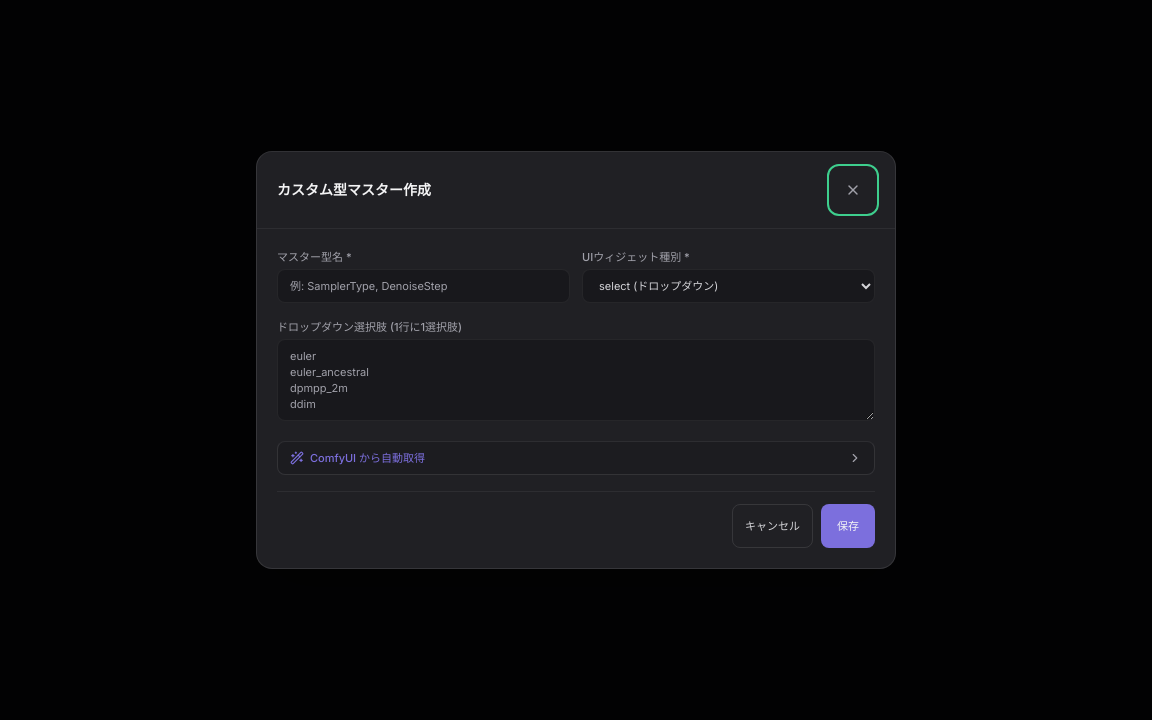
ParamTypeMasterModal › [REQ-365/AC-4] toggles the Auto-Fill section
Expected: the text "対象ワークフロー" is not shown
Click the button "ComfyUI から自動取得": (368,458) [278,442,874,474]
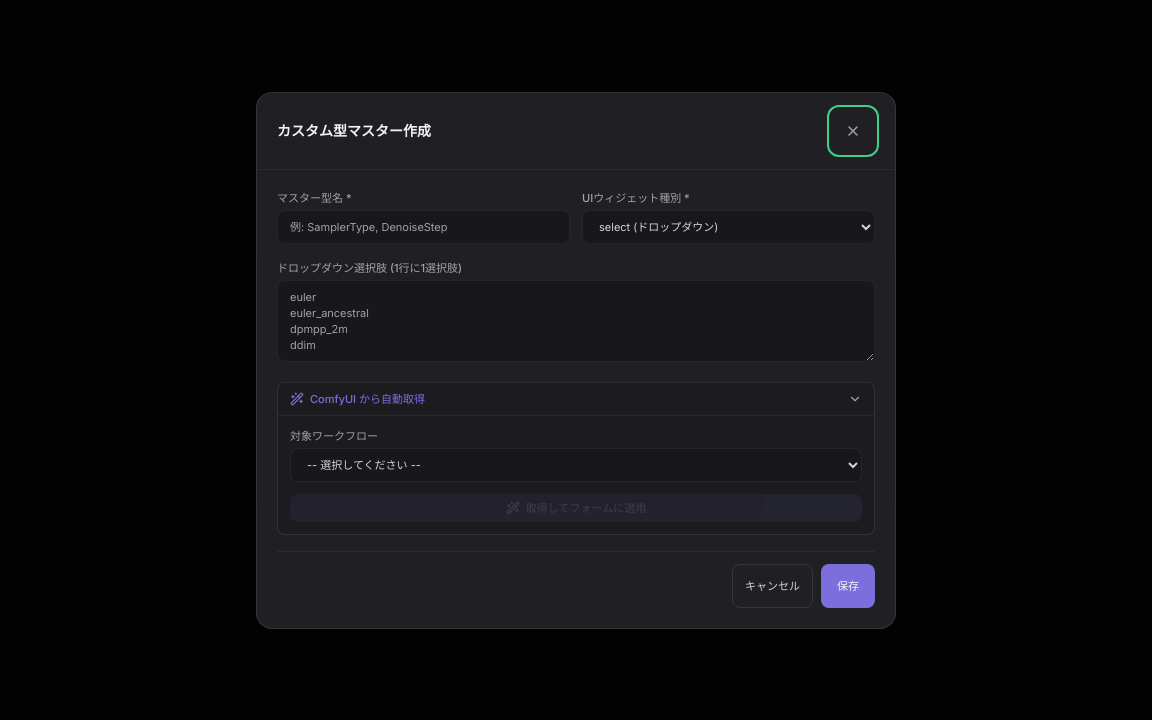
Result: the text "対象ワークフロー" is shown at [290,428,378,442]
Click the button "ComfyUI から自動取得": (368,398) [278,382,874,414]
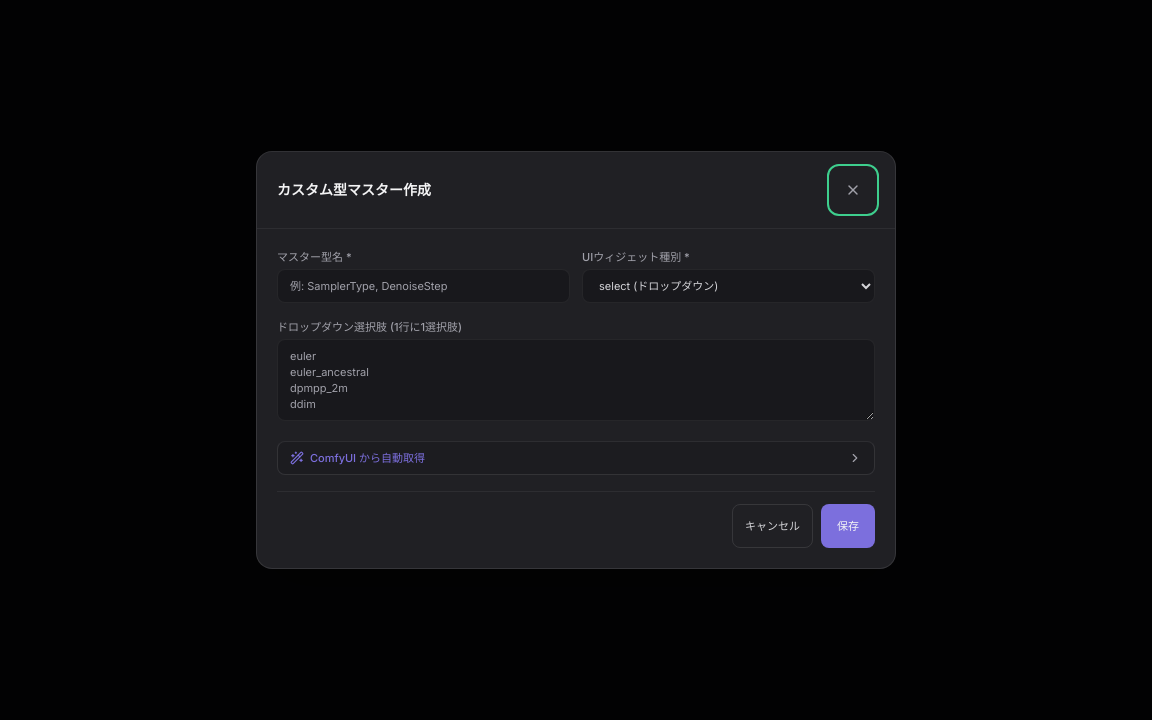
Result: the text "対象ワークフロー" is gone
